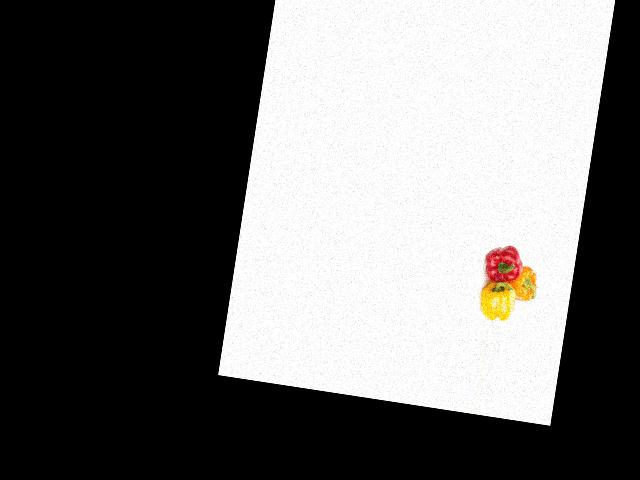bell_pepper: (474, 280, 518, 323)
